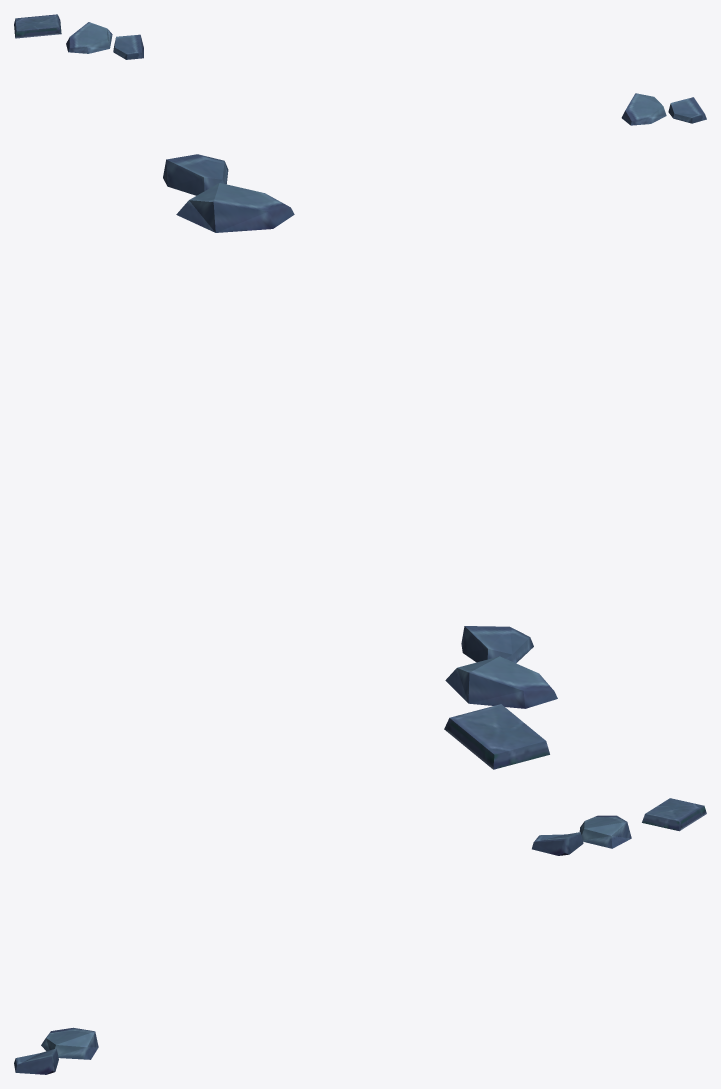
The model's file is Area06_22.fbx.
The picture shows the model from 3 angles, top to bottom: view 1: azimuth 30°, elevation 25°; view 2: azimuth 150°, elevation 25°; view 3: azimuth 270°, elevation 25°; orthographic projection. The views are drawn at different scales.
Parts seen in each view (by area): view 1: Area06_22; view 2: Area06_22; view 3: Area06_22.
Boxes of the visible parts, left/top/right/bottom form: Area06_22: left=14, top=14, right=706, bottom=125; Area06_22: left=163, top=154, right=557, bottom=769; Area06_22: left=14, top=798, right=706, bottom=1074.
Bounding box in the file's own units: 1513 × 49.41 × 1633.
Materials: 1 (1 with a texture image).
